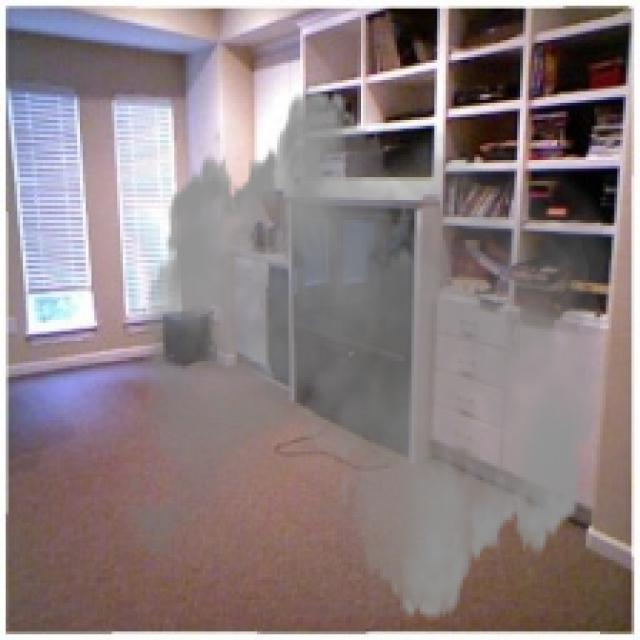Smoke: (106, 72, 628, 638)
